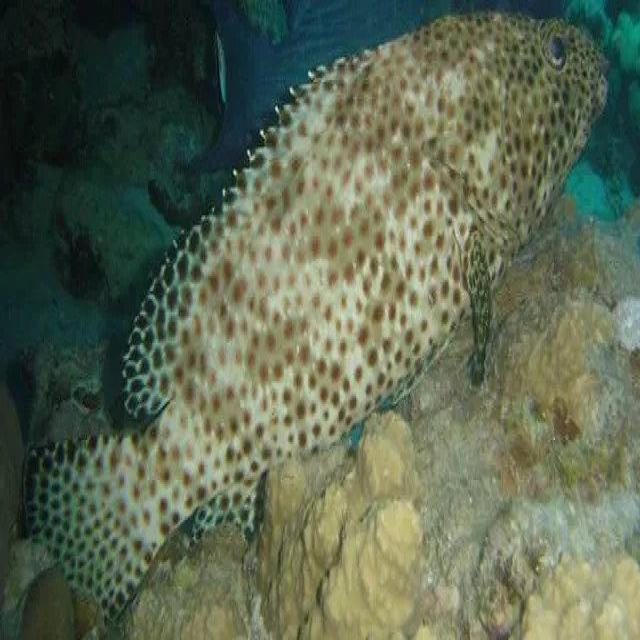grouper: (18, 3, 617, 620)
